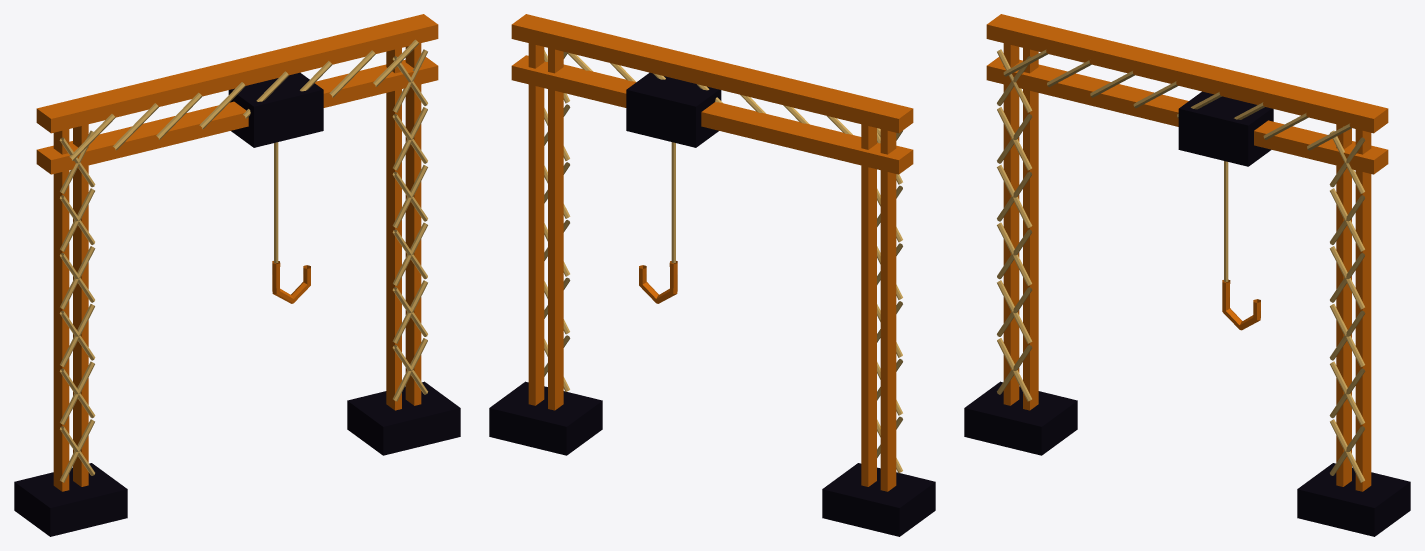
Rendered from port_lattice_loader_r10.fbx.
3 views of the same model, side by side, from view 1: azimuth 30°, elevation 25°; view 2: azimuth 150°, elevation 25°; view 3: azimuth 330°, elevation 25° (orthographic).
Parts seen in each view (by area): view 1: Part_2, Part_0, Part_1, Part_-1, Part_3, Part_4; view 2: Part_2, Part_0, Part_1, Part_-1, Part_4, Part_3; view 3: Part_2, Part_1, Part_0, Part_-1, Part_3, Part_4.
Boxes of the visible parts, x1,y1,x2,y2 form: Part_2: [36, 14, 438, 191]; Part_0: [14, 124, 95, 536]; Part_1: [383, 43, 459, 426]; Part_-1: [14, 381, 460, 536]; Part_3: [228, 89, 322, 256]; Part_4: [272, 142, 310, 303]; Part_2: [511, 14, 913, 178]; Part_0: [823, 124, 935, 510]; Part_1: [490, 43, 602, 410]; Part_-1: [489, 400, 934, 536]; Part_4: [639, 142, 677, 303]; Part_3: [672, 89, 721, 259]; Part_2: [986, 14, 1388, 188]; Part_1: [1298, 124, 1410, 510]; Part_0: [965, 43, 1077, 410]; Part_-1: [964, 400, 1409, 536]; Part_3: [1178, 109, 1247, 273]; Part_4: [1222, 161, 1260, 330].
Bounding box in the file's own units: 6.5 × 6.16 × 0.9875.
